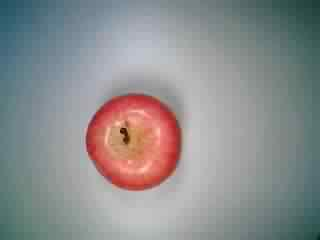apple: (80, 92, 185, 194)
